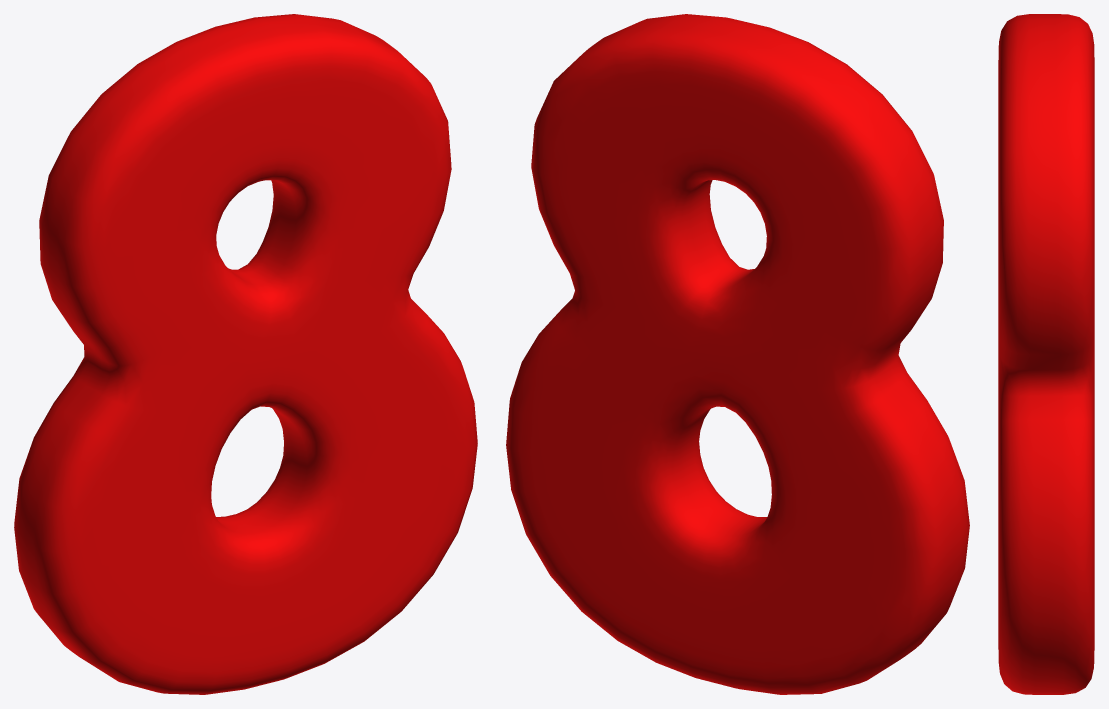
The picture shows the model from 3 angles, left to right: view 1: azimuth 30°, elevation 25°; view 2: azimuth 150°, elevation 25°; view 3: azimuth 270°, elevation 25°; orthographic projection. The views are drawn at different scales.
Parts seen in each view (by area): view 1: 8; view 2: 8; view 3: 8.
Boxes of the visible parts, x1=… form: 8: x1=14, y1=14, x2=477, y2=694; 8: x1=506, y1=14, x2=969, y2=694; 8: x1=998, y1=14, x2=1094, y2=694.
Size of the model in its own units: 102 by 144 by 20.
